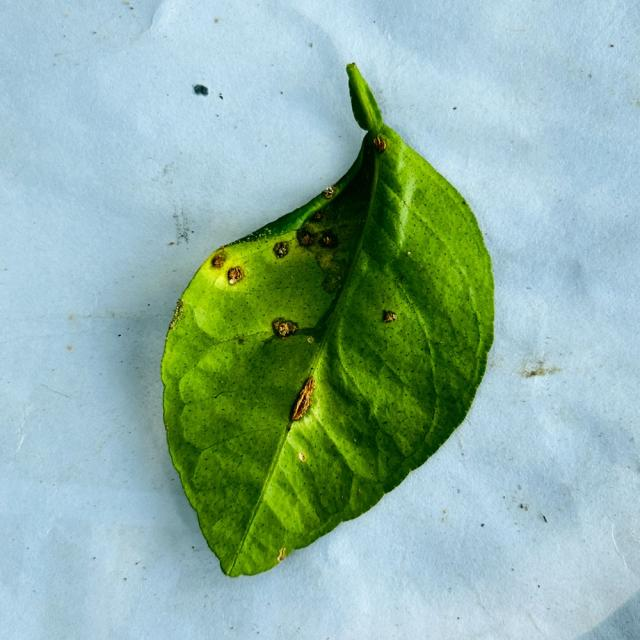Anthracnose: (297, 210, 352, 302), (282, 380, 334, 419), (261, 226, 301, 273), (370, 288, 411, 333), (205, 256, 245, 294), (269, 315, 302, 342)
Lemon: (161, 65, 495, 579)
